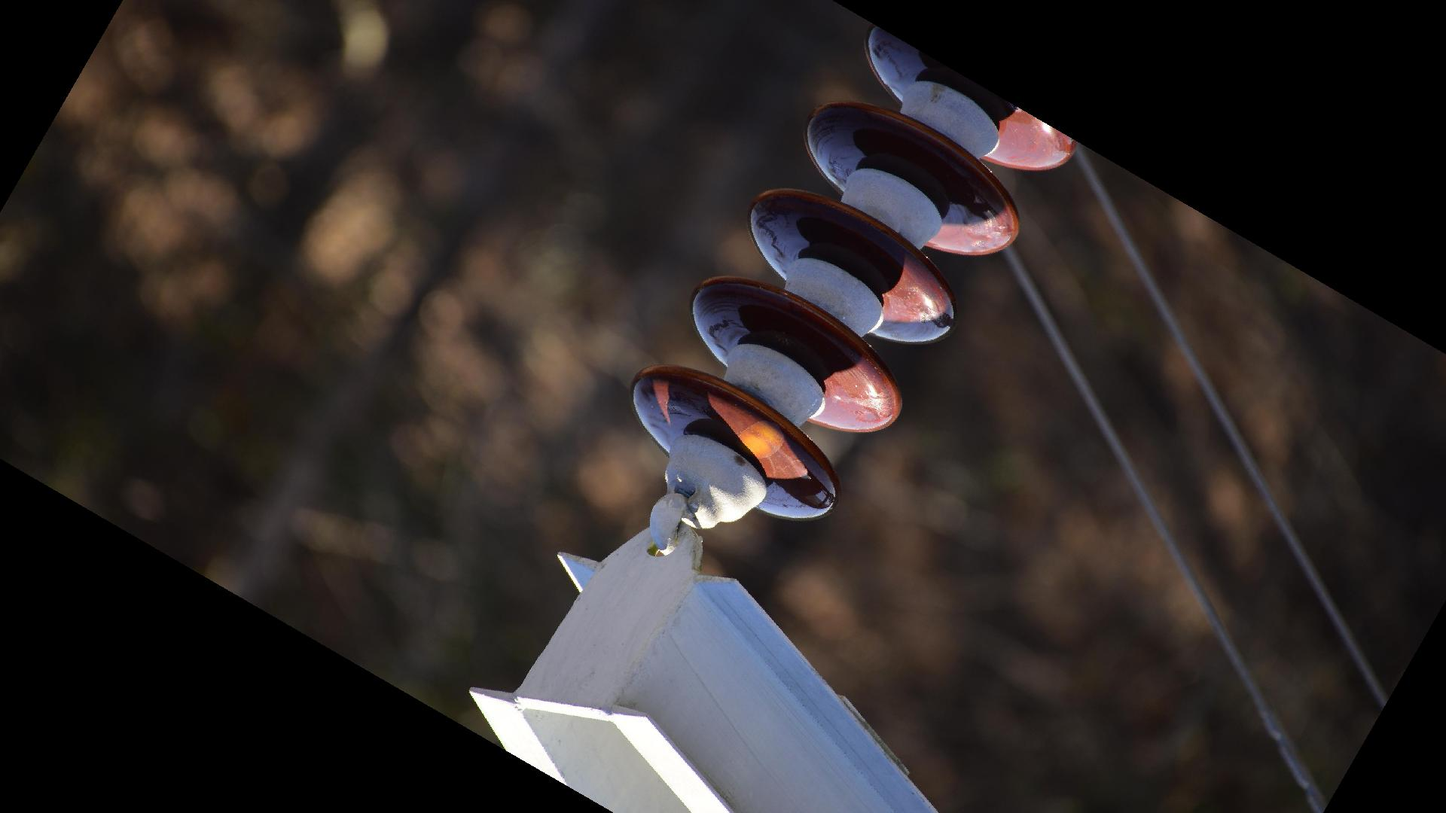insulator: (624, 17, 1089, 529)
insulator_flashover: (735, 417, 787, 460)
